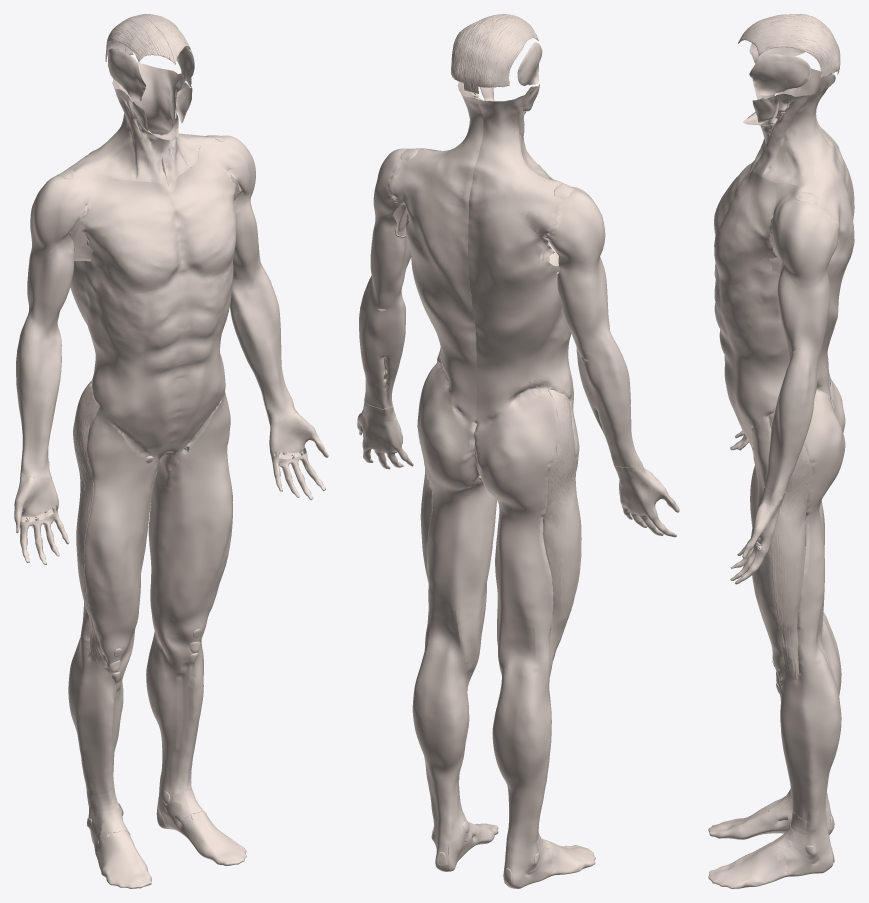
Rendered from fascias.glb.
3 renders of one model, left to right at view 1: azimuth 30°, elevation 25°; view 2: azimuth 150°, elevation 25°; view 3: azimuth 270°, elevation 25°, orthographic. The views are drawn at different scales.
Parts seen in each view (by area): view 1: Investing abdominal fascia.r, Fascia lata.l, Fascia lata.r, Crural fascia.l, Crural fascia.r, Pectoral fascia.r, Investing abdominal fascia.l, Pectoral fascia.l, Antebrachial fascia.r, Antebrachial fascia.l, Superficial investing cervical fascia.r, Deltoid fascia.r (+10 smaller); view 2: Investing abdominal fascia.r, Fascia lata.r, Fascia lata.l, Crural fascia.r, Investing abdominal fascia.l, Crural fascia.l, Superficial investing cervical fascia.r, Iliotibial tract.r, Antebrachial fascia.r, Antebrachial fascia.l, Deltoid fascia.r, Superficial investing cervical fascia.l (+11 smaller); view 3: Investing abdominal fascia.l, Crural fascia.l, Fascia lata.l, Superficial investing cervical fascia.l, Iliotibial tract.l, Deltoid fascia.l, Pectoral fascia.l, Antebrachial fascia.l, Brachial fascia.l, Epicranial aponeurosis.l, Crural fascia.r, Superficial layer of temporal fascia.l (+11 smaller).
Part boxes in pixels (box(x1,y1,x2,y2)): Investing abdominal fascia.r: box(70, 239, 184, 456); Fascia lata.l: box(146, 392, 232, 637); Fascia lata.r: box(73, 389, 165, 658); Crural fascia.l: box(146, 621, 246, 865); Crural fascia.r: box(68, 638, 151, 888); Pectoral fascia.r: box(78, 178, 182, 294); Investing abdominal fascia.l: box(162, 158, 233, 452); Pectoral fascia.l: box(168, 158, 237, 274); Antebrachial fascia.r: box(16, 315, 61, 463); Antebrachial fascia.l: box(230, 263, 291, 408); Superficial investing cervical fascia.r: box(65, 79, 171, 183); Deltoid fascia.r: box(30, 169, 113, 257); Investing abdominal fascia.r: box(468, 206, 573, 425); Fascia lata.r: box(474, 388, 581, 676); Fascia lata.l: box(417, 363, 496, 656); Crural fascia.r: box(492, 665, 595, 888); Investing abdominal fascia.l: box(400, 177, 476, 424); Crural fascia.l: box(412, 649, 498, 871); Superficial investing cervical fascia.r: box(469, 86, 566, 216); Iliotibial tract.r: box(543, 390, 581, 677); Antebrachial fascia.r: box(575, 329, 641, 467); Antebrachial fascia.l: box(359, 276, 405, 409); Deltoid fascia.r: box(521, 173, 605, 273); Superficial investing cervical fascia.l: box(399, 81, 483, 208); Investing abdominal fascia.l: box(714, 194, 854, 447); Crural fascia.l: box(708, 655, 841, 888); Fascia lata.l: box(751, 388, 845, 673); Superficial investing cervical fascia.l: box(743, 78, 848, 205); Iliotibial tract.l: box(768, 411, 812, 682); Deltoid fascia.l: box(771, 182, 843, 288); Pectoral fascia.l: box(714, 171, 776, 285); Antebrachial fascia.l: box(764, 348, 820, 493); Brachial fascia.l: box(777, 261, 829, 357); Epicranial aponeurosis.l: box(738, 18, 840, 78); Crural fascia.r: box(708, 618, 841, 839); Superficial layer of temporal fascia.l: box(749, 54, 811, 95).
Bounding box in the file's own units: 0.6708 × 1.7 × 0.2685.
